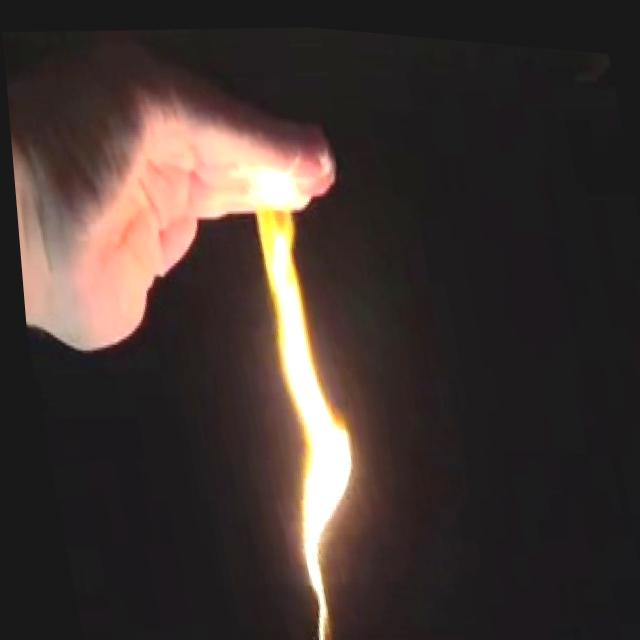helmet: (212, 149, 383, 640)
